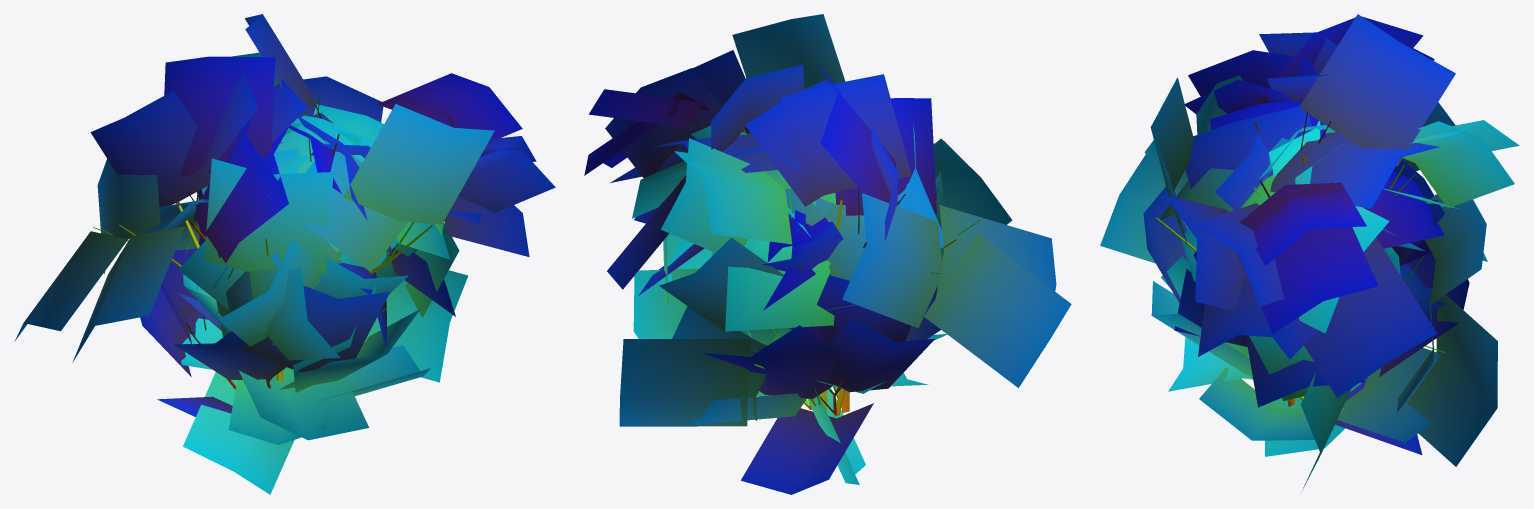
The model's file is SM_Bush_Hazel_A_LOD2.fbx.
The picture shows the model from 3 angles, left to right: view 1: azimuth 30°, elevation 25°; view 2: azimuth 150°, elevation 25°; view 3: azimuth 270°, elevation 25°; orthographic projection. The views are drawn at different scales.
Visible parts, largest first — view 1: SM_Bush_Hazel_A_LOD2; view 2: SM_Bush_Hazel_A_LOD2; view 3: SM_Bush_Hazel_A_LOD2.
Boxes of the visible parts, x1,y1,x2,y2 form: SM_Bush_Hazel_A_LOD2: (14, 14, 555, 494); SM_Bush_Hazel_A_LOD2: (584, 14, 1071, 494); SM_Bush_Hazel_A_LOD2: (1100, 14, 1519, 492).
Size of the model in its own units: 2.59 by 2.21 by 1.86.
